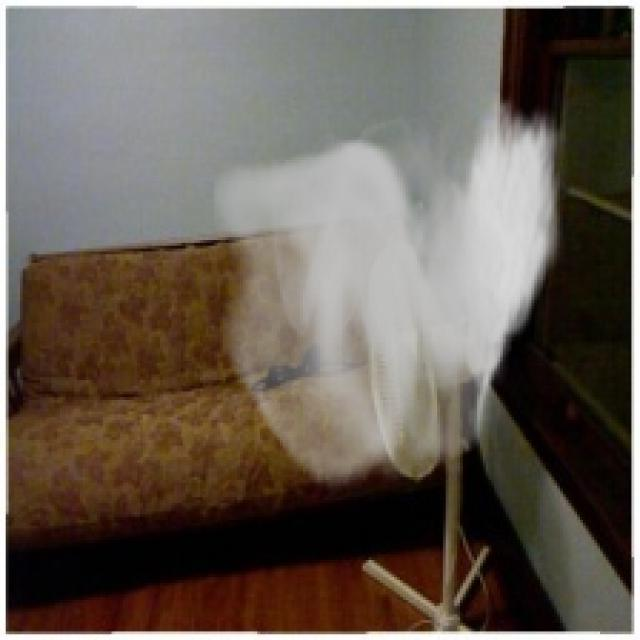Smoke: (211, 92, 566, 497)
